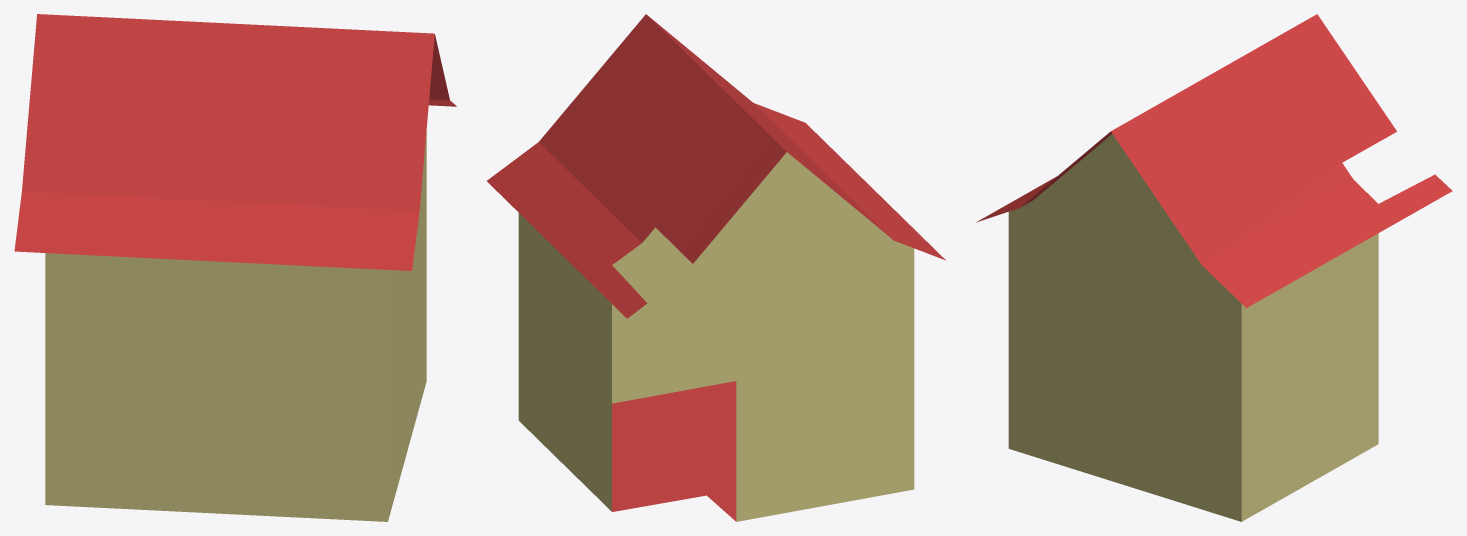
The picture shows the model from 3 angles, left to right: view 1: azimuth 30°, elevation 25°; view 2: azimuth 150°, elevation 25°; view 3: azimuth 270°, elevation 25°; orthographic projection. The views are drawn at different scales.
Bounding box in the file's own units: 15.04 × 14.99 × 12.53.
